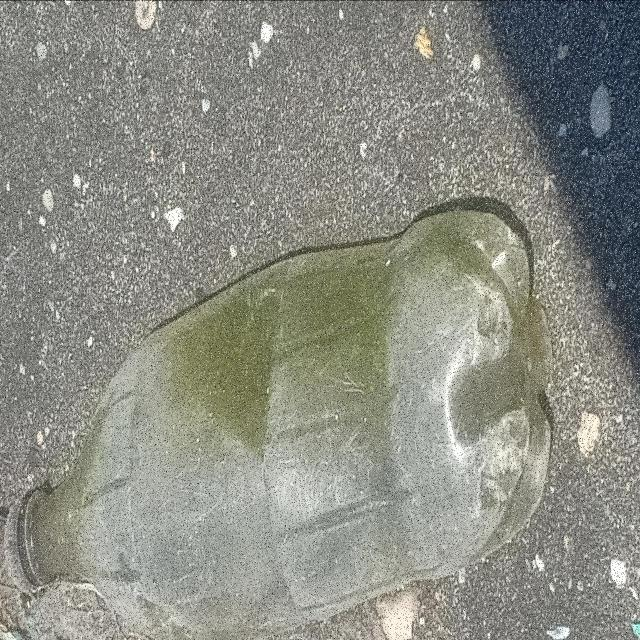plastic_waste: (5, 203, 556, 639)
